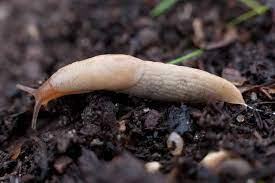slug: (27, 53, 247, 107)
